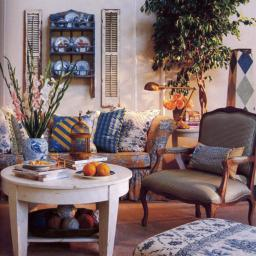Matera: (2, 55, 63, 163)
